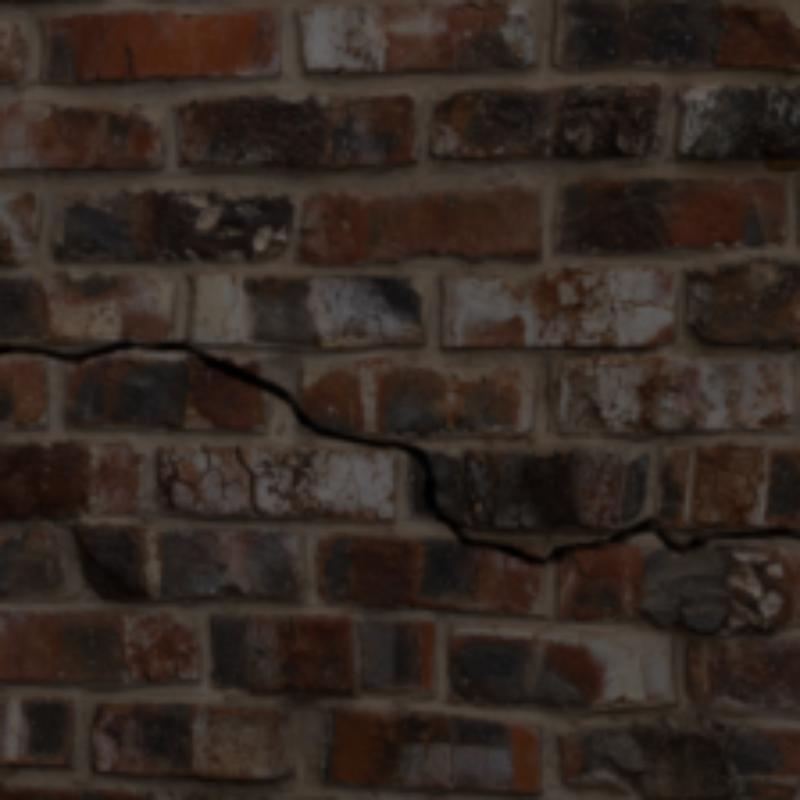pothole: (0, 339, 796, 564), (236, 446, 268, 514)
